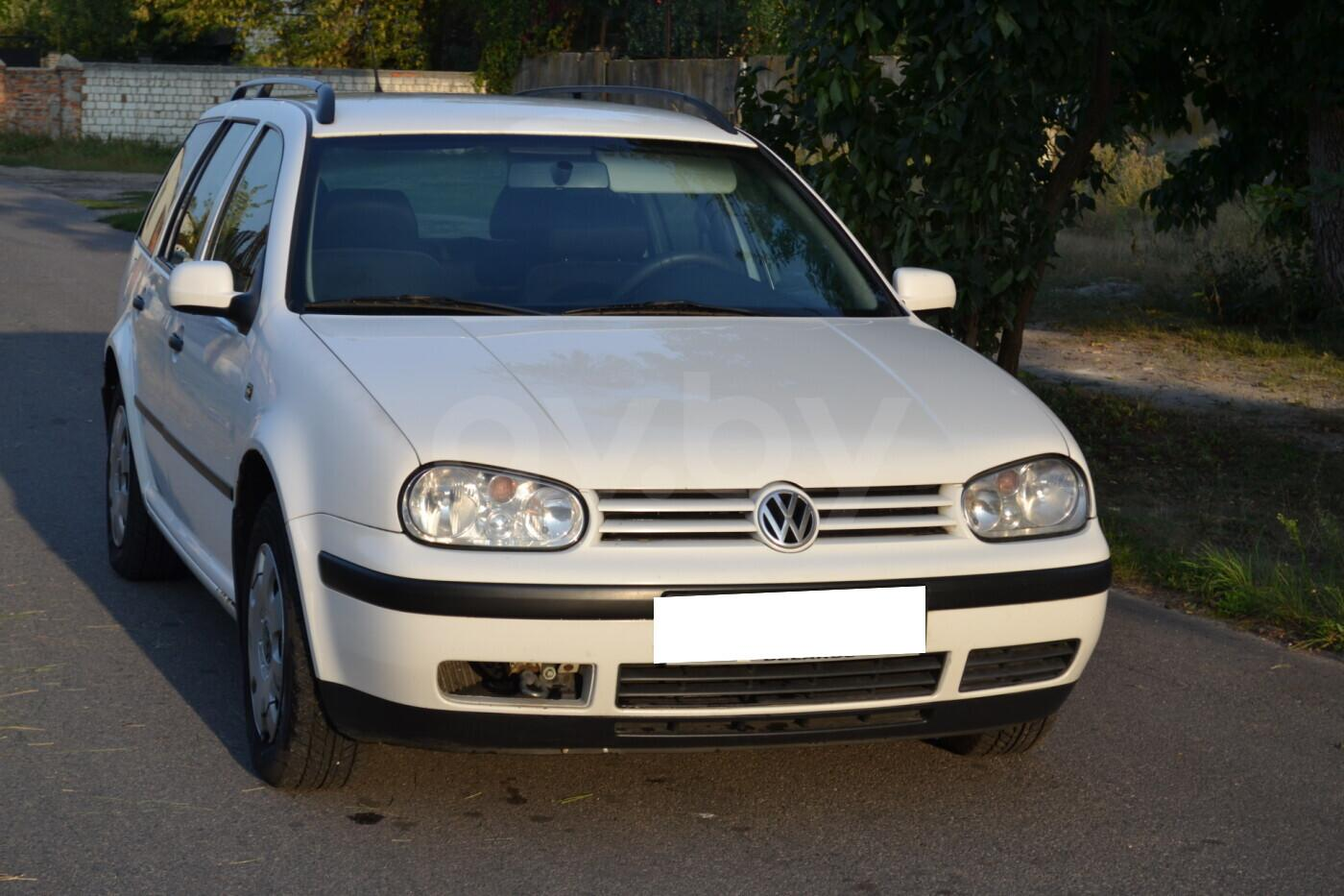Golf_1997-2006: (90, 80, 1119, 807)
